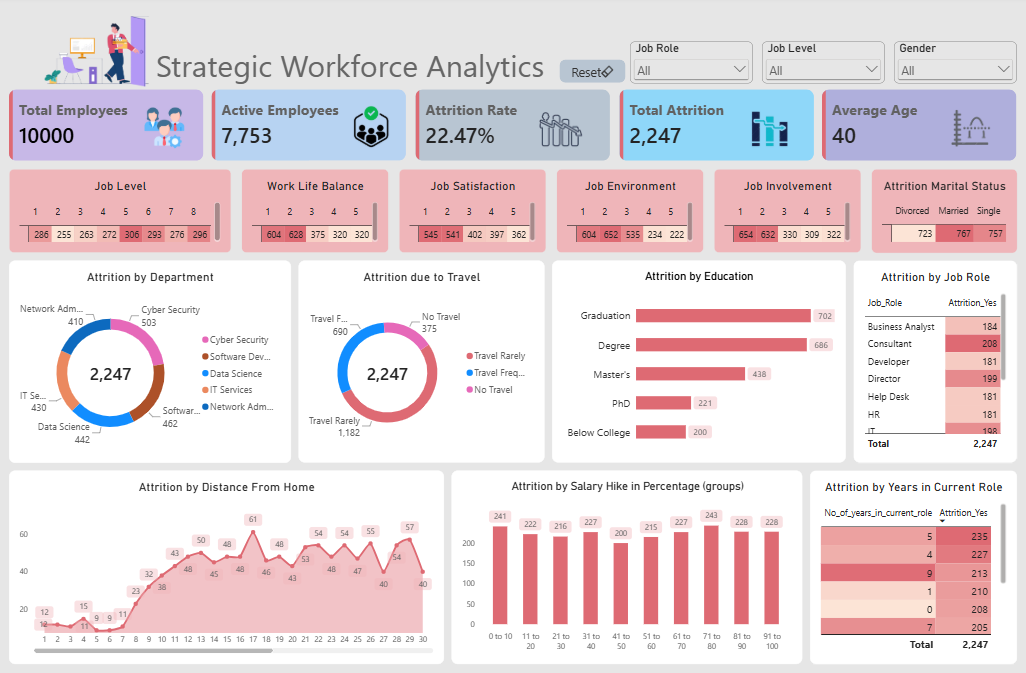

The dashboard page shown, as its layout file describes it:
{"tool":"powerbi","page":{"name":"Page 1","canvas":[1650,1080],"ordinal":0},"visuals":[{"type":"cardVisual","fields":{"Data":["CountNonNull(HR_Attrition_dataset.Employee_ID)"]},"box":[23.9,150.3,309,113],"z":0},{"type":"cardVisual","fields":{"Data":["HR_Attrition_dataset.Attrition_Yes"]},"box":[993.7,150.3,309,113],"z":1000},{"type":"cardVisual","fields":{"Data":["HR_Attrition_dataset.Attrition_Rate"]},"box":[670.4,150.3,309,113],"z":2000},{"type":"cardVisual","fields":{"Data":["HR_Attrition_dataset.Attrition_No"]},"box":[347.2,150.3,309,113],"z":3000},{"type":"cardVisual","fields":{"Data":["HR_Attrition_dataset.Average_Age"]},"box":[1317,150.3,305,113],"z":4000},{"type":"donutChart","title":"Attrition by Department","fields":{"Category":["HR_Attrition_dataset.Department"],"Y":["HR_Attrition_dataset.Attrition_Yes"]},"box":[23.9,422.3,448.6,322.1],"z":5000},{"type":"tableEx","title":"Attrition by Job Role","fields":{"Values":["HR_Attrition_dataset.Job_Role","HR_Attrition_dataset.Attrition_Yes"]},"box":[1367.1,424.7,260.1,319.7],"z":6000},{"type":"lineChart","title":"Attrition by Distance From Home","fields":{"Category":["HR_Attrition_dataset.Distance_From_Home"],"Y":["HR_Attrition_dataset.Attrition_Yes"]},"box":[23.9,756.3,692,307.8],"z":7000},{"type":"pivotTable","title":"Job Satisfaction ","fields":{"Columns":["HR_Attrition_dataset.Job_Satisfaction"],"Values":["HR_Attrition_dataset.Attrition_Yes"]},"box":[643.9,276.8,234,133.6],"z":8000},{"type":"pivotTable","title":"Job Environment ","fields":{"Columns":["HR_Attrition_dataset.Environment_Satisfaction"],"Values":["HR_Attrition_dataset.Attrition_Yes"]},"box":[894.5,276.8,234,133.6],"z":9000},{"type":"pivotTable","title":"Job Involvement","fields":{"Columns":["HR_Attrition_dataset.Job_Involvement"],"Values":["HR_Attrition_dataset.Attrition_Yes"]},"box":[1145.2,276.8,234,133.6],"z":10000},{"type":"pivotTable","title":"Work Life Balance","fields":{"Columns":["HR_Attrition_dataset.Work_life_balance"],"Values":["HR_Attrition_dataset.Attrition_Yes"]},"box":[393.8,276.8,234,133.6],"z":11000},{"type":"pivotTable","title":"Job Level","fields":{"Columns":["HR_Attrition_dataset.Job_Level"],"Values":["HR_Attrition_dataset.Attrition_Yes"]},"box":[23.9,276.8,353.1,133.6],"z":12000},{"type":"donutChart","title":"Attrition due to Travel","fields":{"Category":["HR_Attrition_dataset.Business_Travel"],"Y":["HR_Attrition_dataset.Attrition_Yes"]},"box":[484.3,424.7,391.3,318],"z":13000},{"type":"tableEx","title":"Attrition by Years in Current Role","fields":{"Values":["HR_Attrition_dataset.No_of_years_in_current_role","HR_Attrition_dataset.Attrition_Yes"]},"box":[1297.9,756.3,329.3,307.8],"z":14000},{"type":"clusteredColumnChart","title":"Attrition by Salary Hike in Percentage (groups)","fields":{"Category":["HR_Attrition_dataset.Salary_Hike_in_percent (groups)"],"Y":["HR_Attrition_dataset.Attrition_Yes"]},"box":[727.7,756.3,558.3,307.8],"z":15000},{"type":"clusteredBarChart","title":"Attrition by Education","fields":{"Category":["HR_Attrition_dataset.Education"],"Y":["HR_Attrition_dataset.Attrition_Yes"]},"box":[887.6,424.7,467,319],"z":16000},{"type":"slicer","fields":{"Values":["HR_Attrition_dataset.Job_Level"]},"box":[1221.6,74,195,66.8],"z":18000},{"type":"slicer","fields":{"Values":["HR_Attrition_dataset.Job_Role"]},"box":[1011.6,74,195,66.8],"z":19000},{"type":"actionButton","box":[899.5,102.6,105,37],"z":20000},{"type":"pivotTable","title":"Attrition Marital Status","fields":{"Columns":["HR_Attrition_dataset.Marital_Status"],"Values":["HR_Attrition_dataset.Attrition_Yes"]},"box":[1395.8,276.8,232,134],"z":21000},{"type":"image","box":[207.6,178.9,126.5,64.4],"z":22001},{"type":"image","box":[501,152.7,198,114.5],"z":22002},{"type":"image","box":[1147.6,169.4,176.6,81.1],"z":22003},{"type":"image","box":[837.5,169.4,124.1,88.3],"z":22006},{"type":"image","box":[1462.6,162.2,183.7,95.4],"z":22007},{"type":"slicer","fields":{"Values":["HR_Attrition_dataset.Gender"]},"box":[1431.5,74,195,66.8],"z":22008},{"type":"image","box":[23.9,26.2,269.6,124.1],"z":22009},{"type":"textbox","box":[257.7,78.7,637,74],"z":22010}]}

Visuals, with their boxes in screenshot pixels (x1, y1, x2, y2), scaled from the page's 1650x1080 canvas onto the 1026x673 screenshot:
cardVisual - CountNonNull(HR_Attrition_dataset.Employee_ID): left=15, top=94, right=207, bottom=164
cardVisual - HR_Attrition_dataset.Attrition_Yes: left=618, top=94, right=810, bottom=164
cardVisual - HR_Attrition_dataset.Attrition_Rate: left=417, top=94, right=609, bottom=164
cardVisual - HR_Attrition_dataset.Attrition_No: left=216, top=94, right=408, bottom=164
cardVisual - HR_Attrition_dataset.Average_Age: left=819, top=94, right=1009, bottom=164
"Attrition by Department" donutChart: left=15, top=263, right=294, bottom=464
"Attrition by Job Role" tableEx: left=850, top=265, right=1012, bottom=464
"Attrition by Distance From Home" lineChart: left=15, top=471, right=445, bottom=663
"Job Satisfaction " pivotTable: left=400, top=172, right=546, bottom=256
"Job Environment " pivotTable: left=556, top=172, right=702, bottom=256
"Job Involvement" pivotTable: left=712, top=172, right=858, bottom=256
"Work Life Balance" pivotTable: left=245, top=172, right=390, bottom=256
"Job Level" pivotTable: left=15, top=172, right=234, bottom=256
"Attrition due to Travel" donutChart: left=301, top=265, right=544, bottom=463
"Attrition by Years in Current Role" tableEx: left=807, top=471, right=1012, bottom=663
"Attrition by Salary Hike in Percentage (groups)" clusteredColumnChart: left=452, top=471, right=800, bottom=663
"Attrition by Education" clusteredBarChart: left=552, top=265, right=842, bottom=463
slicer - HR_Attrition_dataset.Job_Level: left=760, top=46, right=881, bottom=88
slicer - HR_Attrition_dataset.Job_Role: left=629, top=46, right=750, bottom=88
actionButton: left=559, top=64, right=625, bottom=87
"Attrition Marital Status" pivotTable: left=868, top=172, right=1012, bottom=256
image: left=129, top=111, right=208, bottom=152
image: left=312, top=95, right=435, bottom=167
image: left=714, top=106, right=823, bottom=156
image: left=521, top=106, right=598, bottom=161
image: left=909, top=101, right=1024, bottom=161
slicer - HR_Attrition_dataset.Gender: left=890, top=46, right=1011, bottom=88
image: left=15, top=16, right=183, bottom=94
textbox: left=160, top=49, right=556, bottom=95
